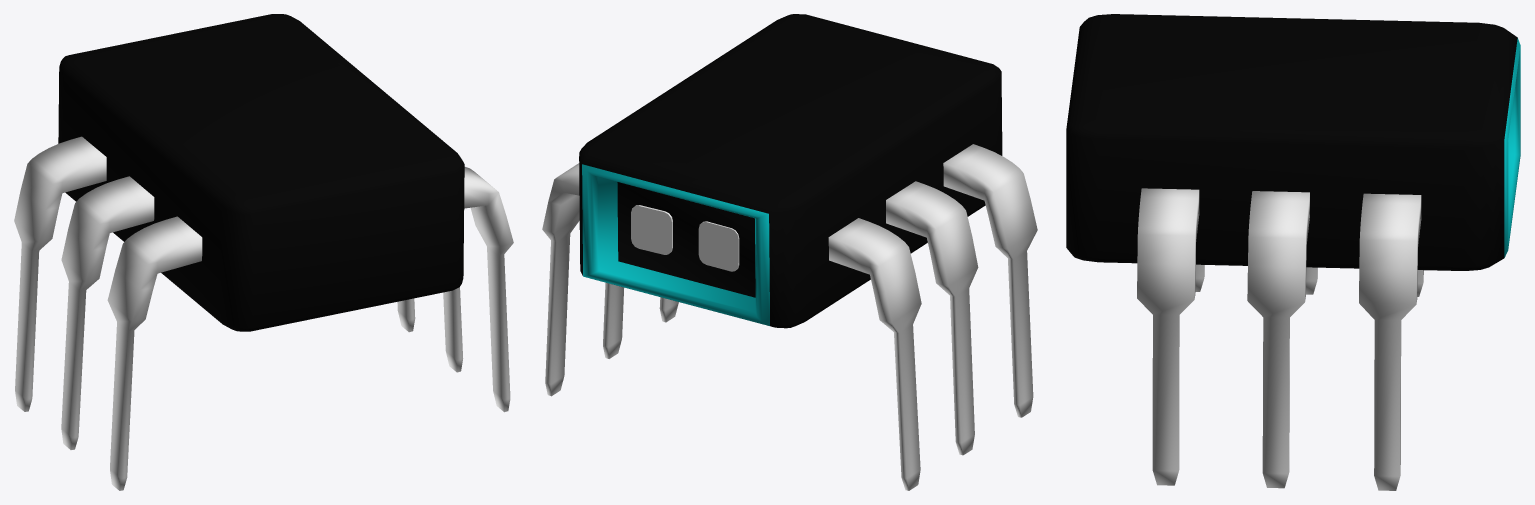
Rendered from transistorNoGun.fbx.
3 renders of one model, left to right at view 1: azimuth 30°, elevation 25°; view 2: azimuth 150°, elevation 25°; view 3: azimuth 270°, elevation 25°, orthographic. The views are drawn at different scales.
Visible parts, largest first — view 1: transistor; view 2: transistor; view 3: transistor.
Boxes of the visible parts, left/top/right/bottom form: transistor: left=14, top=14, right=513, bottom=490; transistor: left=542, top=14, right=1037, bottom=490; transistor: left=1066, top=14, right=1520, bottom=490.
Size of the model in its own units: 89.76 by 67.41 by 86.7.
